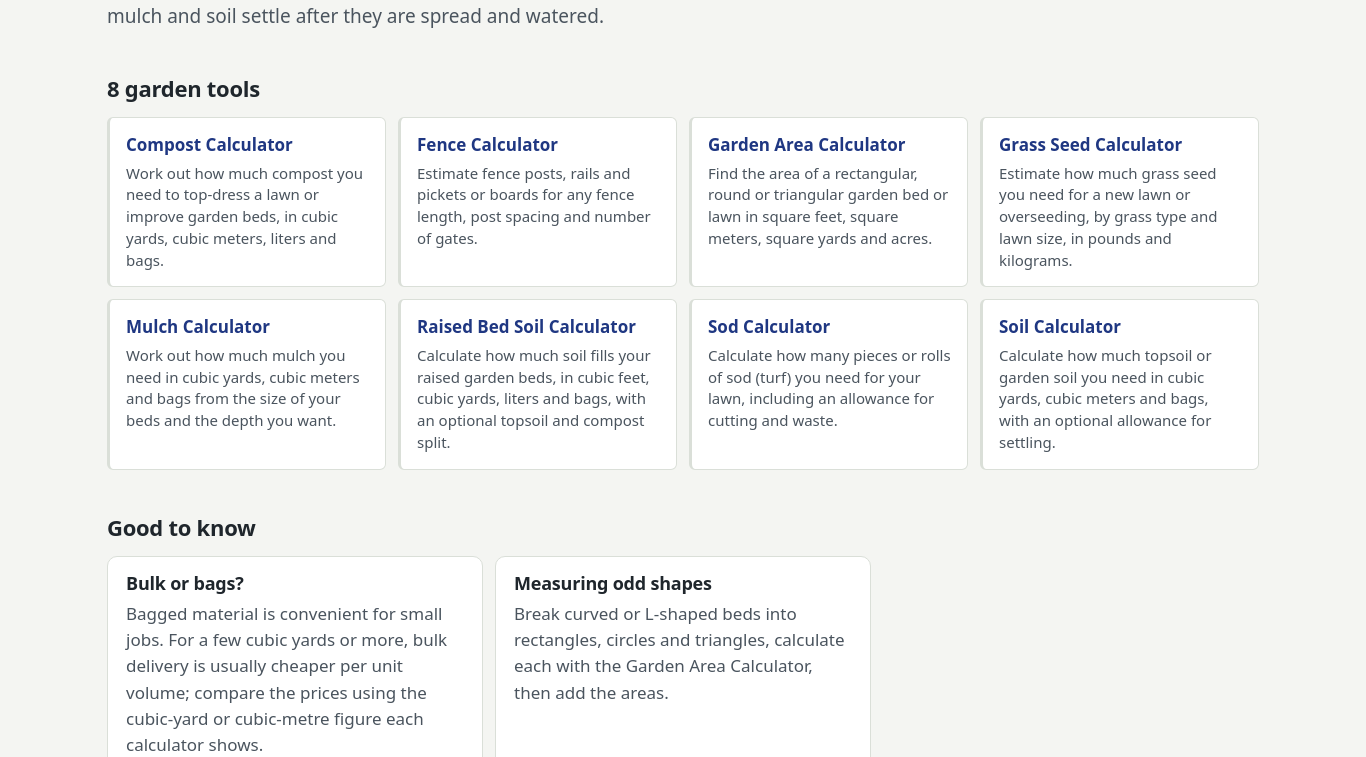
Scenario: pages › navigates client-side and updates the document title
(page scrolled)
Click the link "Mulch Calculator".
click(246, 385)  # box [107,300,386,470]
(page scrolled)
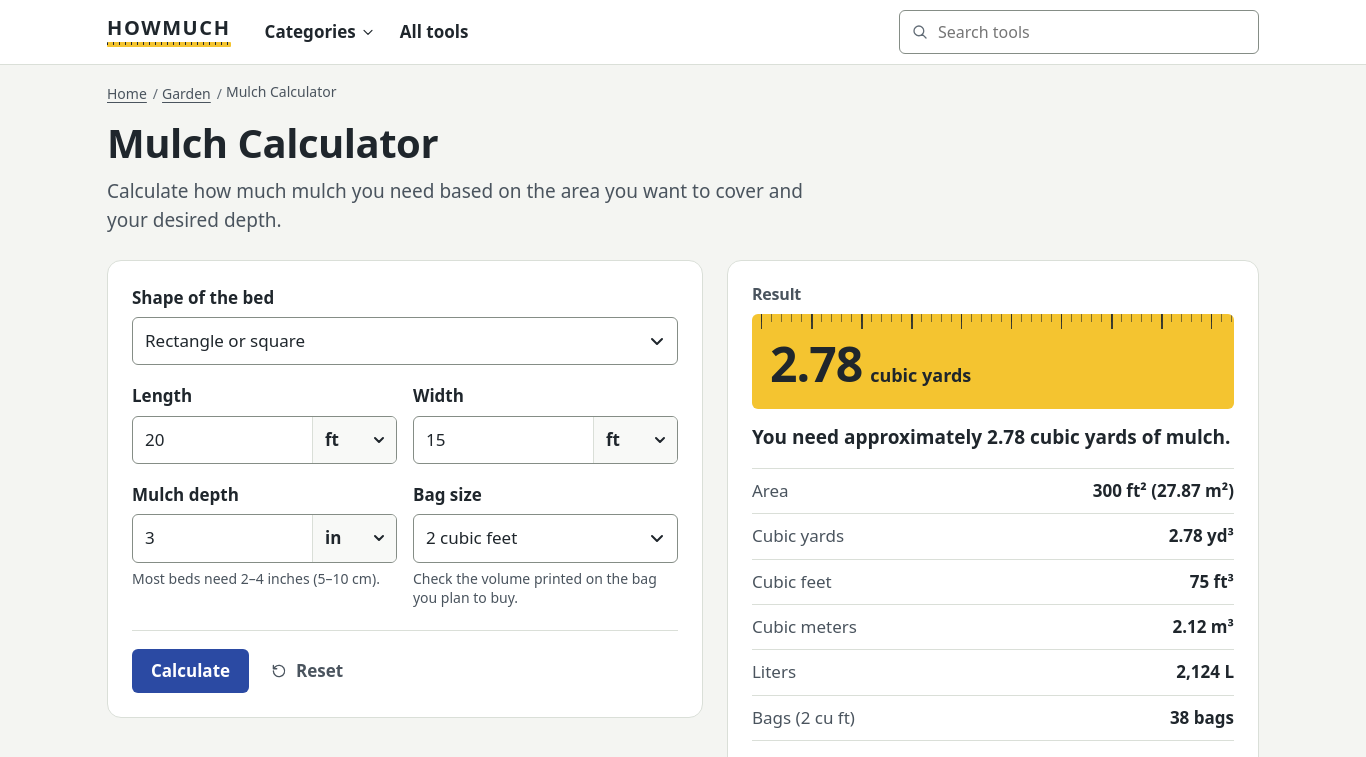
Expected: the heading "Mulch Calculator" is shown, [107,115,438,170]
